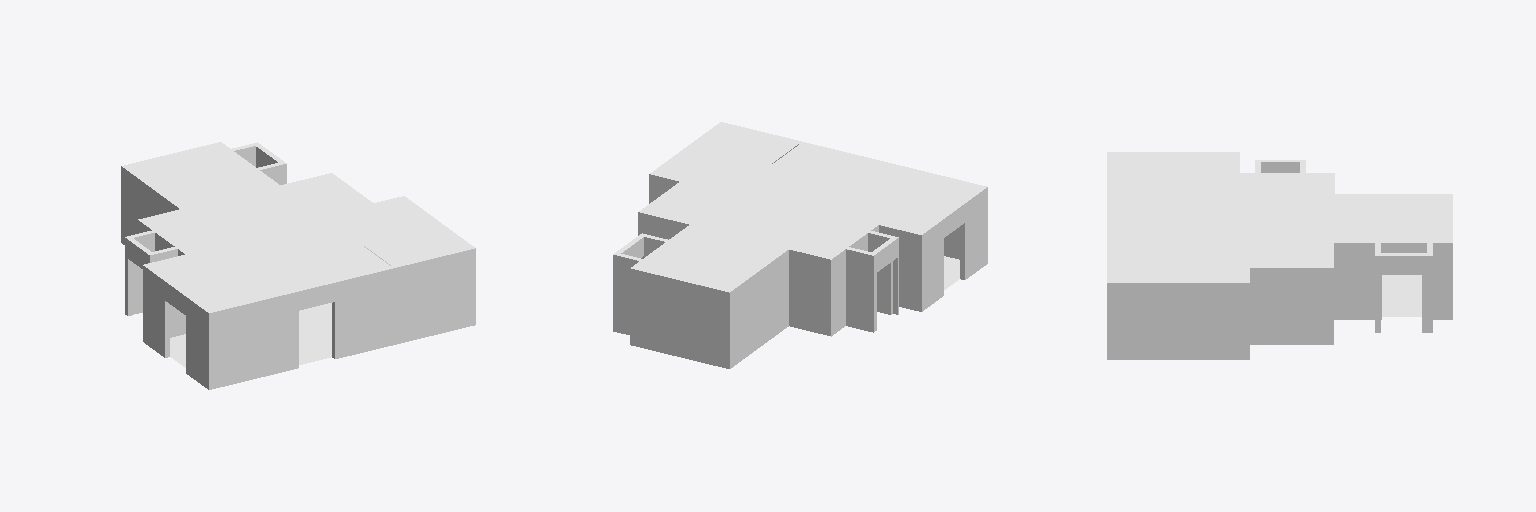
Rendered from render.obj.
The picture shows the model from 3 angles: view 1: azimuth 30°, elevation 25°; view 2: azimuth 150°, elevation 25°; view 3: azimuth 270°, elevation 25°; orthographic projection.
Parts seen in each view (by area): view 1: room_1_224, wall_32_188, wall_18_104, room_4_230, room_3_228, wall_20_116, wall_19_110, room_2_226, room_7_236, wall_4_20, room_1_223, room_5_232 (+3 smaller); view 2: room_1_224, wall_5_26, room_4_230, wall_4_20, room_3_228, wall_20_116, wall_35_209, room_2_226, wall_25_149, room_7_236, wall_21_122, room_5_232 (+6 smaller); view 3: room_1_224, wall_10_56, wall_14_80, room_4_230, wall_37_221, wall_17_98, room_3_228, room_2_226, wall_23_134, room_7_236, room_5_232, room_4_229 (+1 smaller).
Part boxes in pixels (x1,y1,x2,y2): room_1_224: (194, 201, 405, 298); wall_32_188: (254, 268, 393, 377); wall_18_104: (394, 248, 475, 344); room_4_230: (130, 145, 290, 207); room_3_228: (146, 197, 285, 252); wall_20_116: (143, 266, 208, 389); wall_19_110: (209, 302, 256, 389); room_2_226: (152, 257, 247, 309); room_7_236: (365, 227, 467, 265); wall_4_20: (121, 166, 178, 244); room_1_223: (299, 303, 331, 364); room_5_232: (284, 176, 367, 215); room_1_224: (689, 145, 936, 220); wall_5_26: (630, 268, 729, 368); room_4_230: (639, 214, 782, 288); wall_4_20: (730, 250, 788, 368); room_3_228: (734, 200, 872, 255); wall_20_116: (922, 187, 987, 311); wall_35_209: (789, 250, 830, 335); room_2_226: (882, 179, 978, 231); wall_25_149: (846, 249, 873, 332); room_7_236: (697, 125, 797, 162); wall_21_122: (879, 225, 921, 311); room_5_232: (648, 183, 730, 221); room_1_224: (1113, 176, 1293, 264); wall_10_56: (1250, 268, 1333, 344); wall_14_80: (1167, 283, 1249, 359); room_4_230: (1300, 197, 1446, 239); wall_37_221: (1334, 243, 1449, 319); wall_17_98: (1107, 283, 1169, 359); room_3_228: (1240, 176, 1328, 222); room_2_226: (1113, 155, 1233, 172); wall_23_134: (1375, 256, 1432, 332); room_7_236: (1113, 243, 1166, 279); room_5_232: (1250, 243, 1327, 264); room_4_229: (1382, 275, 1421, 316).
Size of the model in its own units: 1018 by 280 by 1142.